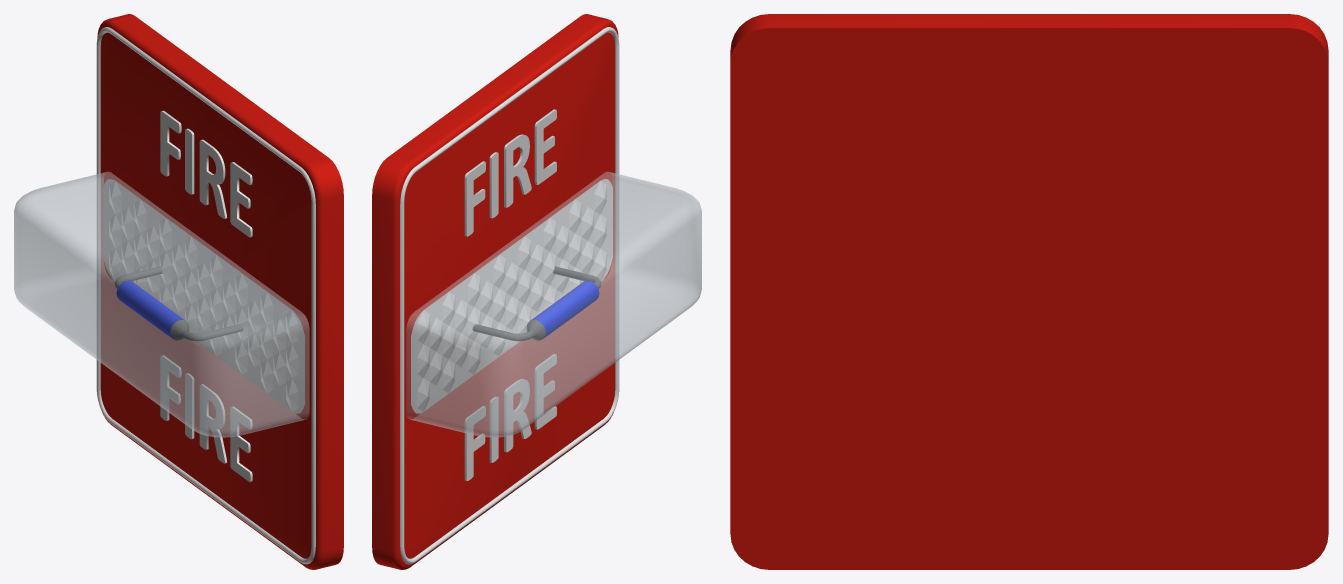
File: Światło_Awaryjne.fbx
3 views of the same model, side by side, from view 1: azimuth 30°, elevation 25°; view 2: azimuth 150°, elevation 25°; view 3: azimuth 270°, elevation 25° (orthographic). The views are drawn at different scales.
Visible parts, largest first — view 1: Swiatlo awaryjne, Swiatlo awaryjne_Text2, Swiatlo awaryjne_Text; view 2: Swiatlo awaryjne, Swiatlo awaryjne_Text2, Swiatlo awaryjne_Text; view 3: Swiatlo awaryjne.
Part boxes in pixels (bbox=[...]): Swiatlo awaryjne: bbox=[14, 14, 343, 569]; Swiatlo awaryjne_Text2: bbox=[160, 110, 252, 237]; Swiatlo awaryjne_Text: bbox=[160, 355, 252, 482]; Swiatlo awaryjne: bbox=[372, 14, 701, 569]; Swiatlo awaryjne_Text2: bbox=[464, 109, 556, 236]; Swiatlo awaryjne_Text: bbox=[464, 354, 556, 480]; Swiatlo awaryjne: bbox=[730, 14, 1328, 569].
Bounding box in the file's own units: 7.93 × 24.15 × 24.15.
